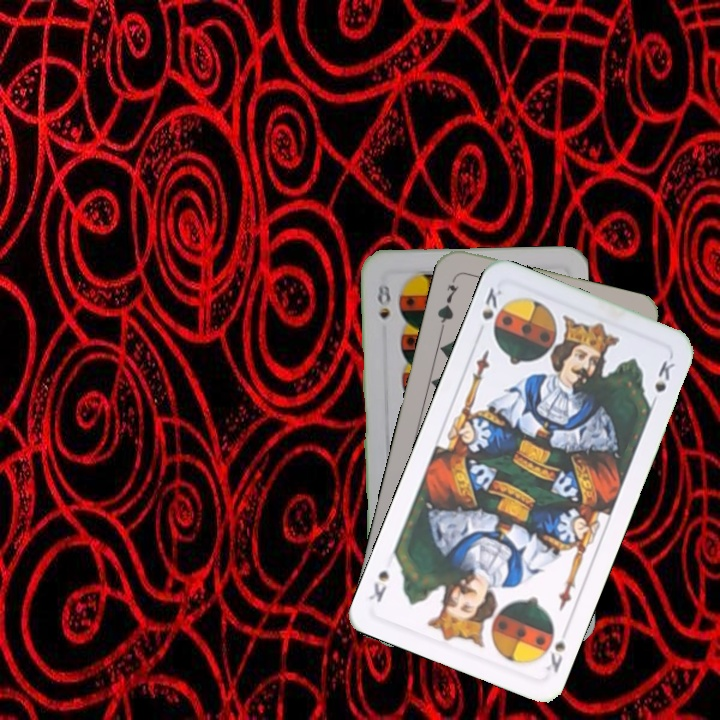G7: (433, 273, 461, 331)
S8: (373, 280, 394, 321)
SK: (541, 622, 572, 676), (477, 283, 505, 323)
